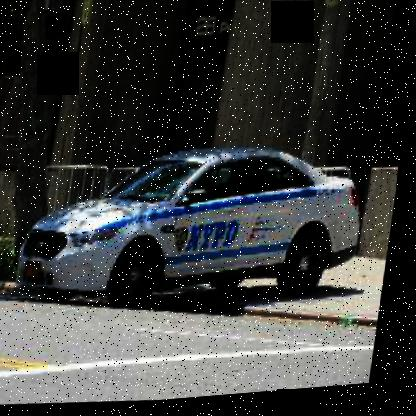emergency: (0, 125, 389, 352)
